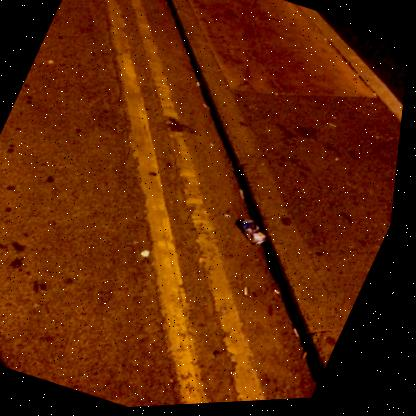Metal: (244, 222, 272, 247)
Waste: (301, 332, 307, 343), (145, 252, 154, 258), (309, 355, 314, 364), (280, 293, 286, 297), (250, 290, 253, 298), (229, 217, 235, 220)
